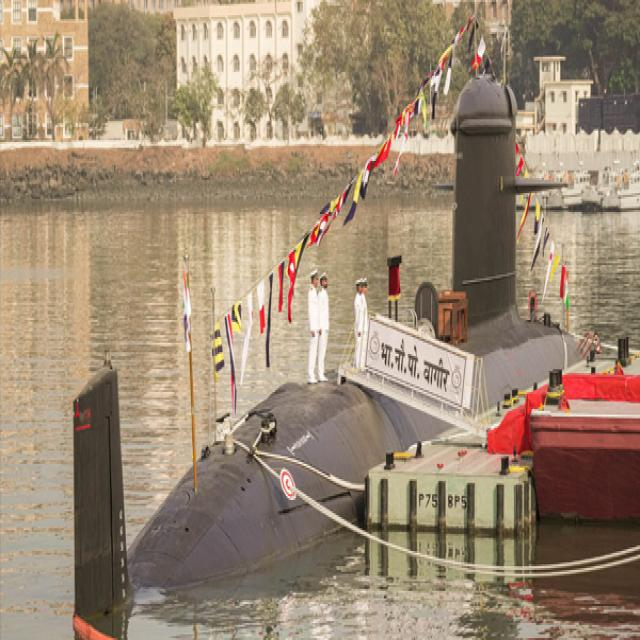Submarine-Kalvari-Class-IND: (66, 63, 584, 607)
